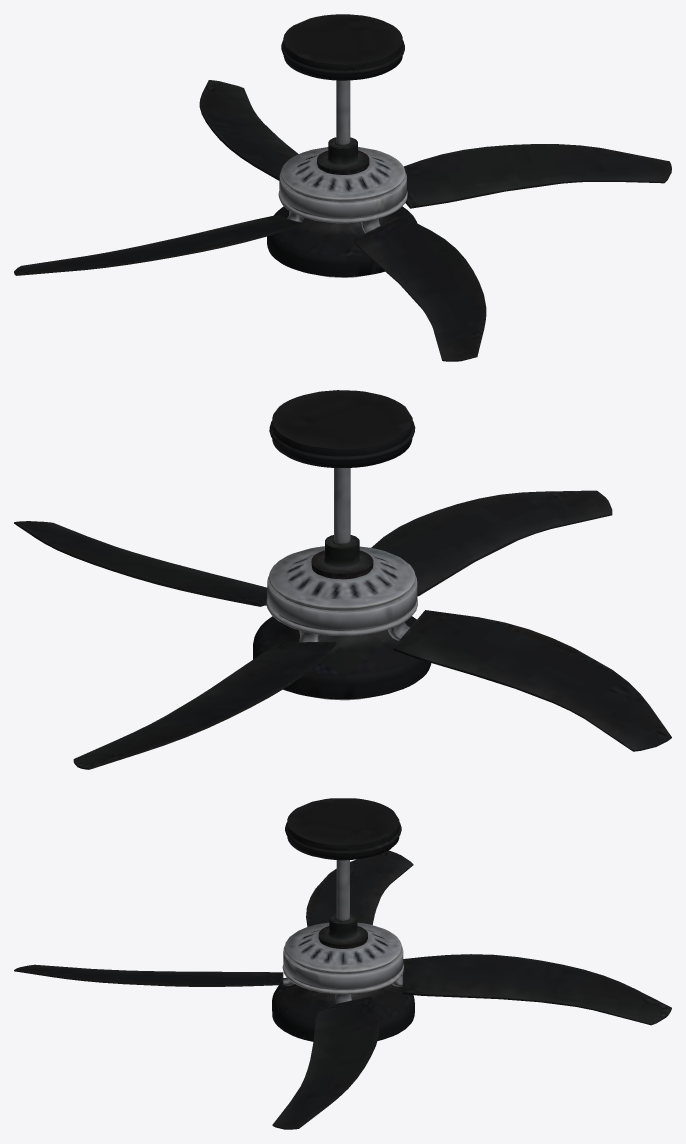
Rendered from ceiling-fan-realistic.lite.17967fe7.glb.
3 views of the same model, one above another, from view 1: azimuth 30°, elevation 25°; view 2: azimuth 150°, elevation 25°; view 3: azimuth 270°, elevation 25° (orthographic). The views are drawn at different scales.
Visible parts, largest first — view 1: model; view 2: model; view 3: model.
Part boxes in pixels (x1=…): model: x1=14, y1=14, x2=671, y2=361; model: x1=14, y1=390, x2=671, y2=769; model: x1=14, y1=798, x2=671, y2=1129.
Size of the model in its own units: 1.46 by 0.5163 by 1.46.
1 material, 1 textured.
